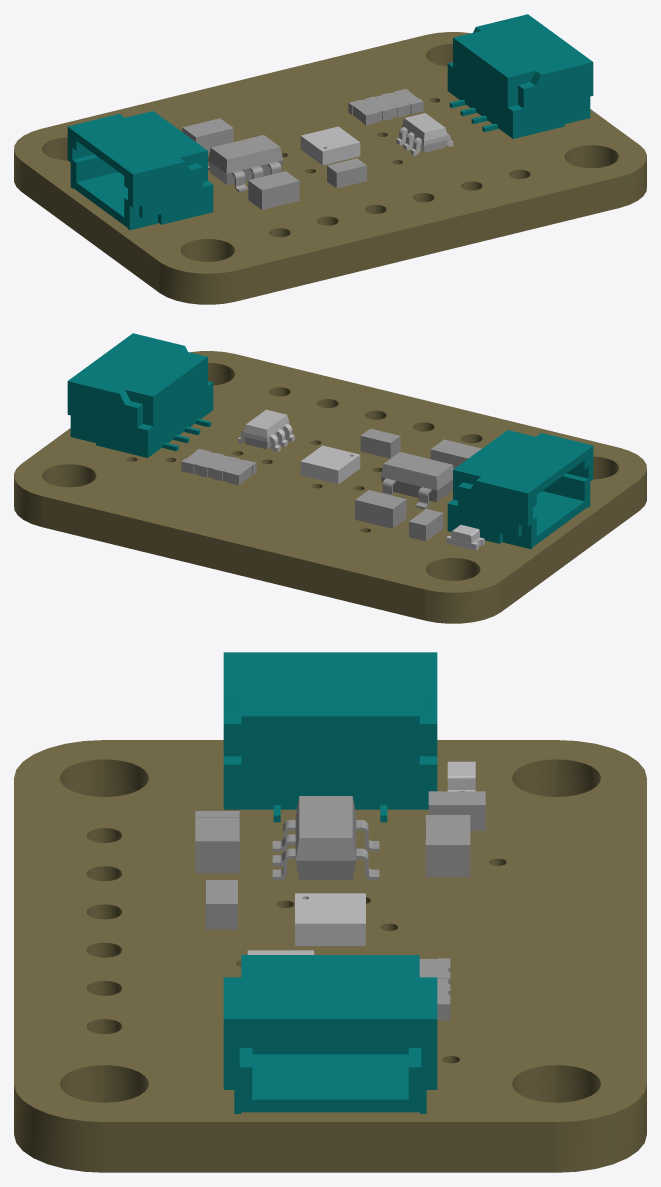
File: ada-4344.glb
3 views of the same model, one above another, from view 1: azimuth 30°, elevation 25°; view 2: azimuth 150°, elevation 25°; view 3: azimuth 270°, elevation 25° (orthographic). The views are drawn at different scales.
Parts seen in each view (by area): view 1: 0.16666666666666666_0.16666666666666666_0.08333333333333333_, 0_0.25_0.25_0, 0.3333333333333333_0.3333333333333333_0.3333333333333333_0, 0.5833333333333334_0.5833333333333334_0.5833333333333334_0.8, 0.5_0.5_0.5_0.85; view 2: 0.16666666666666666_0.16666666666666666_0.08333333333333333_, 0_0.25_0.25_0, 0.3333333333333333_0.3333333333333333_0.3333333333333333_0, 0.5833333333333334_0.5833333333333334_0.5833333333333334_0.8, 0.5_0.5_0.5_0.85; view 3: 0.16666666666666666_0.16666666666666666_0.08333333333333333_, 0_0.25_0.25_0, 0.3333333333333333_0.3333333333333333_0.3333333333333333_0, 0.5833333333333334_0.5833333333333334_0.5833333333333334_0.8.
Part boxes in pixels (left/top/right/bottom): 0.16666666666666666_0.16666666666666666_0.08333333333333333_: left=14, top=32, right=646, bottom=304; 0_0.25_0.25_0: left=67, top=14, right=593, bottom=230; 0.3333333333333333_0.3333333333333333_0.3333333333333333_0: left=182, top=89, right=423, bottom=209; 0.5833333333333334_0.5833333333333334_0.5833333333333334_0.8: left=300, top=126, right=360, bottom=165; 0.5_0.5_0.5_0.85: left=396, top=113, right=453, bottom=155; 0.16666666666666666_0.16666666666666666_0.08333333333333333_: left=14, top=351, right=646, bottom=623; 0_0.25_0.25_0: left=67, top=333, right=593, bottom=549; 0.3333333333333333_0.3333333333333333_0.3333333333333333_0: left=181, top=428, right=481, bottom=541; 0.5833333333333334_0.5833333333333334_0.5833333333333334_0.8: left=300, top=445, right=484, bottom=550; 0.5_0.5_0.5_0.85: left=238, top=409, right=294, bottom=452; 0.16666666666666666_0.16666666666666666_0.08333333333333333_: left=14, top=740, right=646, bottom=1172; 0_0.25_0.25_0: left=223, top=652, right=437, bottom=1113; 0.3333333333333333_0.3333333333333333_0.3333333333333333_0: left=195, top=791, right=485, bottom=1020; 0.5833333333333334_0.5833333333333334_0.5833333333333334_0.8: left=295, top=761, right=475, bottom=945.
Size of the model in its own units: 2.54 by 0.453 by 1.78.
